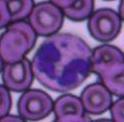N: (32, 34, 91, 92)
